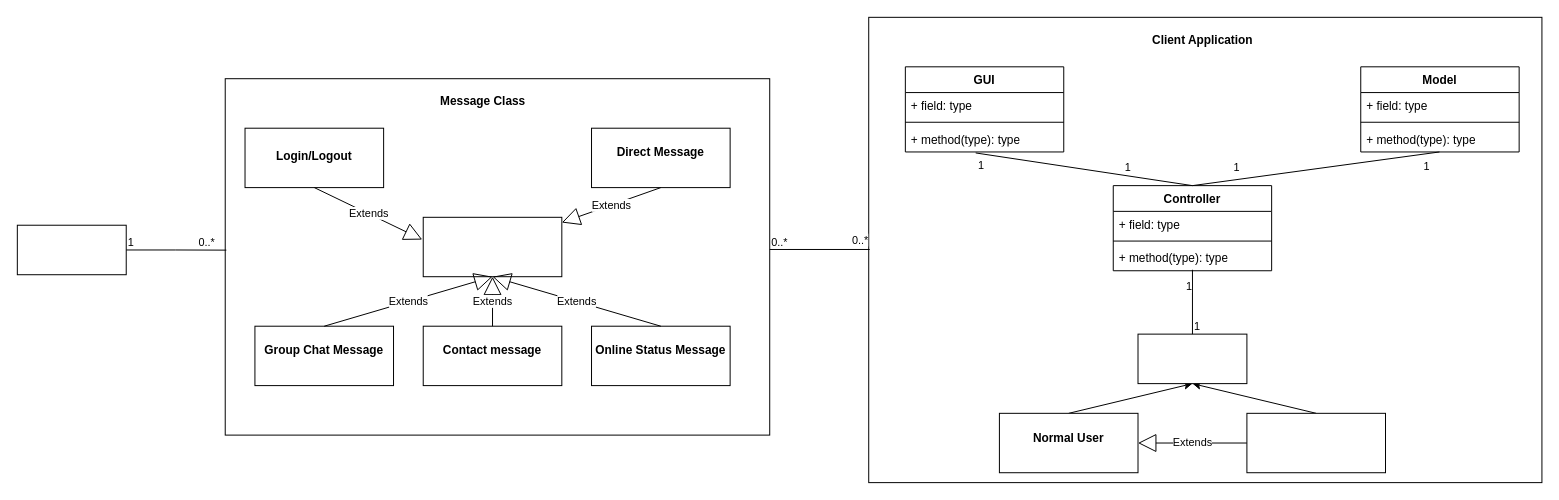
Image size: 1559x500. Some labels were removed from this diagram. The centre of each missing label's shape, as x and y in pixels:
IT user: (1316,442)
Message: (492,246)
Server: (71,249)
User: (1192,358)
